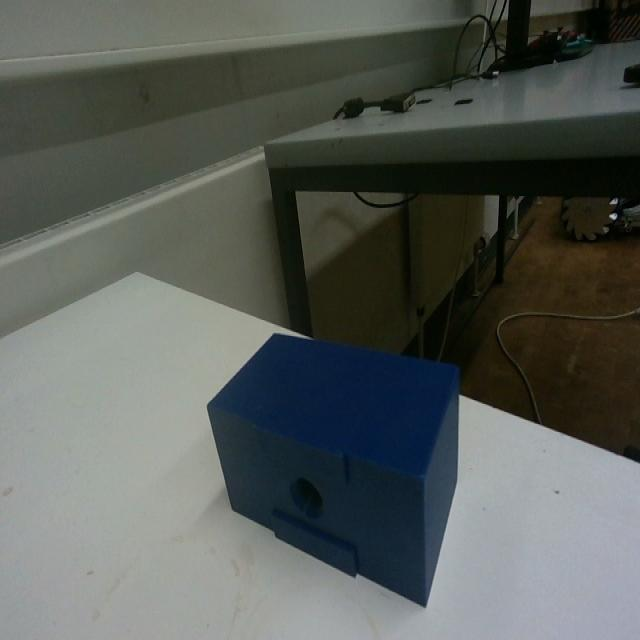Blue Cuboid: (204, 325, 463, 607)
